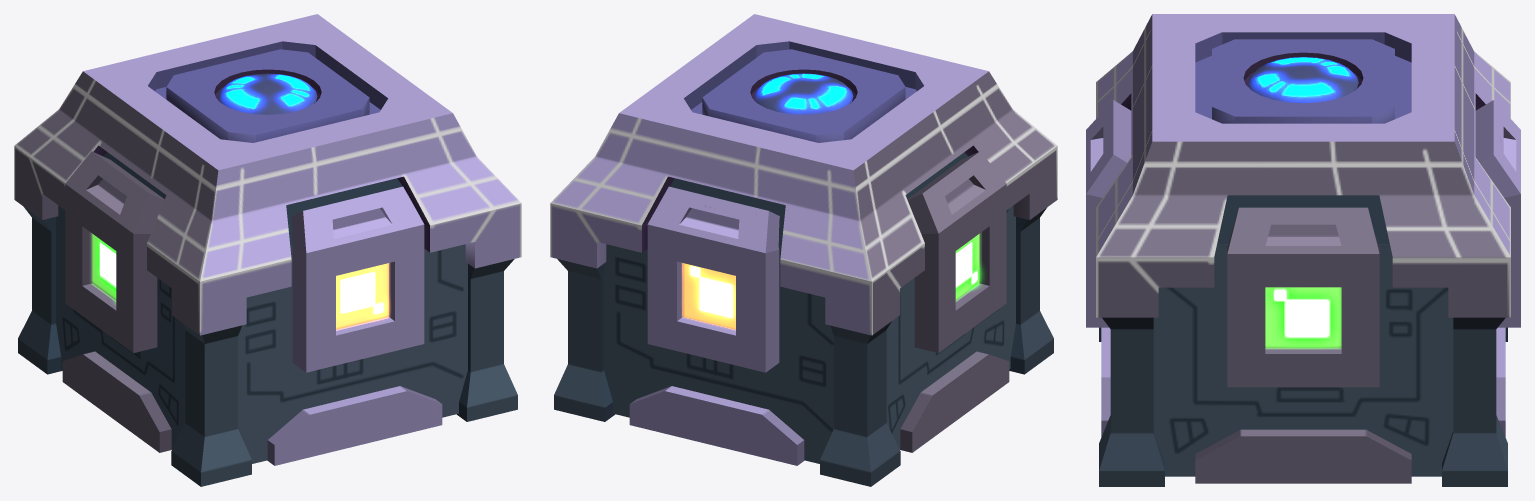
File: Scifi_LootBox_04.fbx
3 renders of one model, left to right at view 1: azimuth 30°, elevation 25°; view 2: azimuth 150°, elevation 25°; view 3: azimuth 270°, elevation 25°, orthographic. The views are drawn at different scales.
Parts seen in each view (by area): view 1: Scifi_LootBox_04; view 2: Scifi_LootBox_04; view 3: Scifi_LootBox_04.
Boxes of the visible parts, <box> form: Scifi_LootBox_04: <box>14,14,521,486</box>; Scifi_LootBox_04: <box>550,14,1057,486</box>; Scifi_LootBox_04: <box>1086,14,1520,486</box>.
Size of the model in its own units: 244 by 203 by 244.
